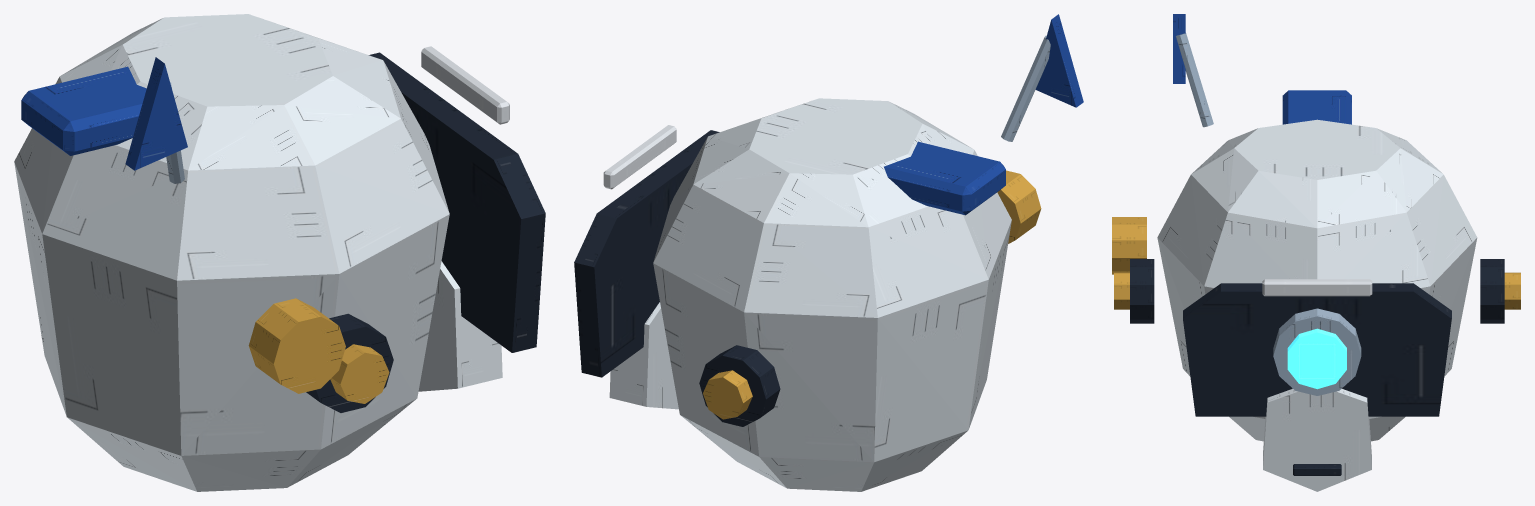
File: visor.glb
3 renders of one model, left to right at view 1: azimuth 30°, elevation 25°; view 2: azimuth 150°, elevation 25°; view 3: azimuth 270°, elevation 25°, orthographic. The views are drawn at different scales.
Parts seen in each view (by area): view 1: head; view 2: head; view 3: head.
Part boxes in pixels (x1,y1,x2,y2): head: (14, 14, 545, 491); head: (574, 14, 1083, 491); head: (1112, 14, 1520, 491).
Bounding box in the file's own units: 0.315 × 0.327 × 0.3525.
Materials: 7 (7 with a texture image).
